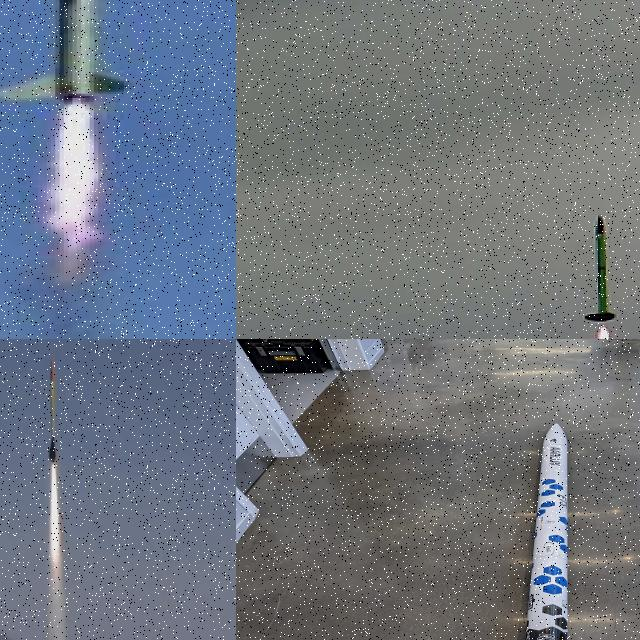Rocket: (0, 0, 141, 114), (525, 422, 568, 640), (583, 214, 618, 322), (49, 361, 56, 469)
